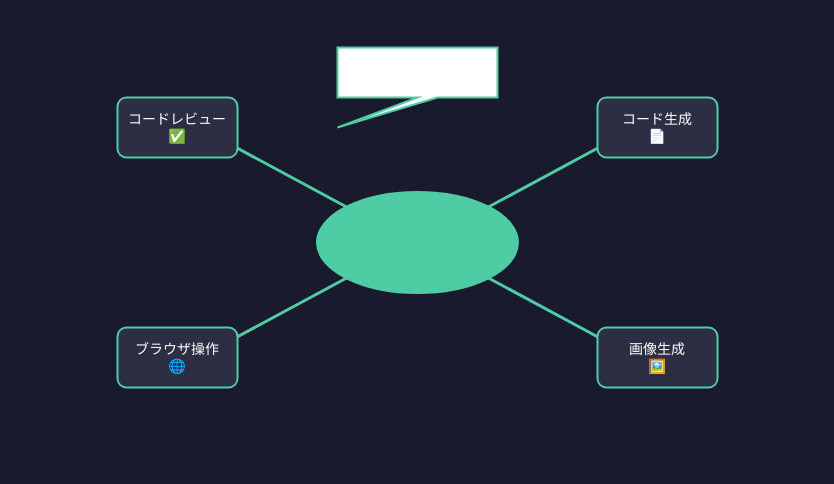
The diagram is 834 pixels wide and 484 high, and some of its shapes have lost their labels. Each missing label, with the centre of its shape:
"Antigravity" belongs at (417,242).
"自然言語で指示" belongs at (417,87).
